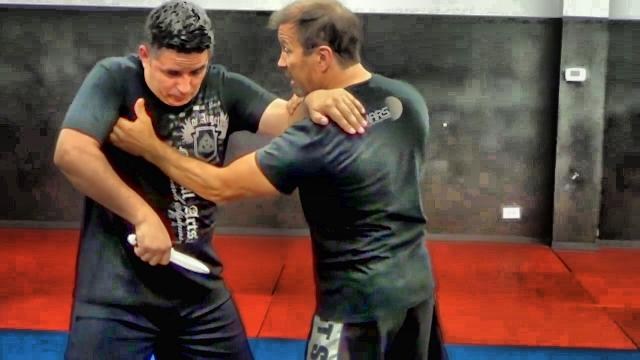knife: (124, 231, 213, 278)
